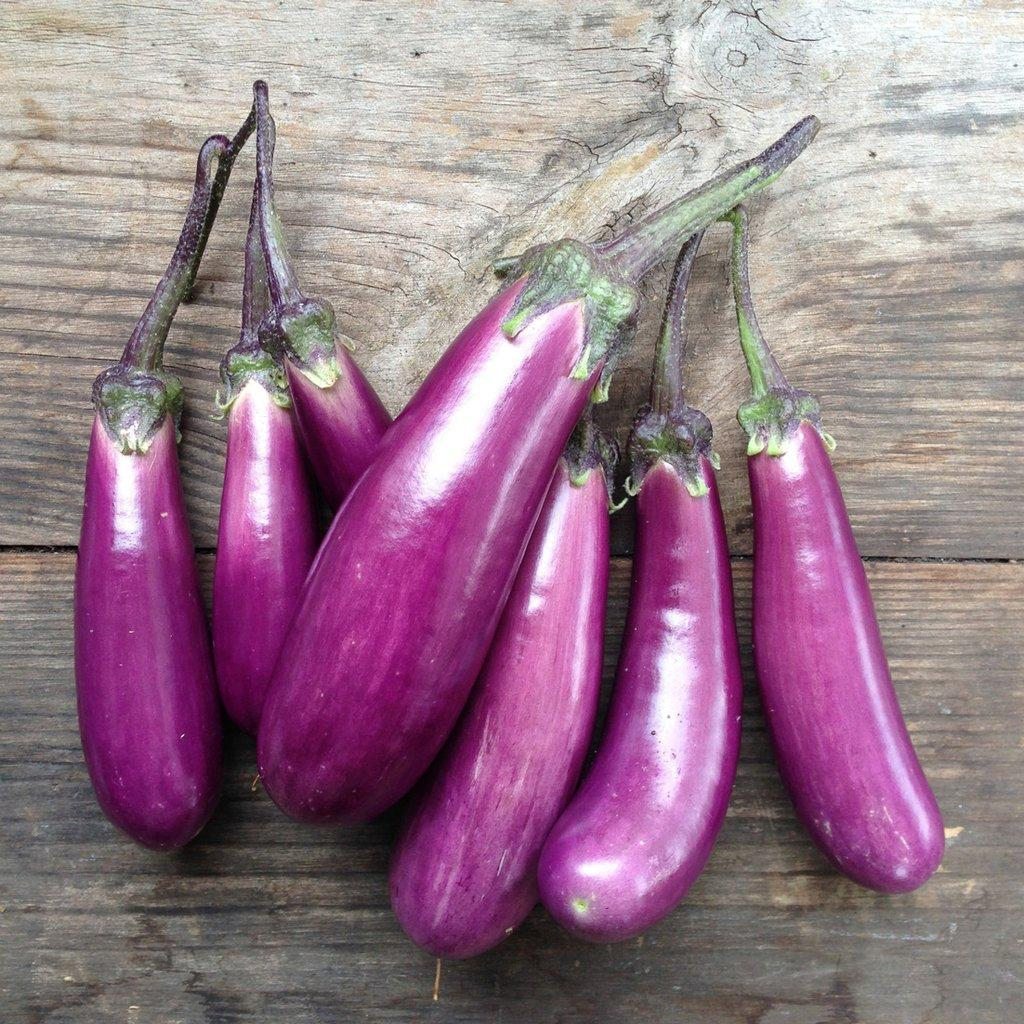eggplant: (251, 112, 820, 827), (535, 208, 749, 945), (722, 201, 945, 894), (72, 103, 244, 852), (386, 403, 616, 961), (210, 79, 318, 736), (247, 78, 395, 511)
